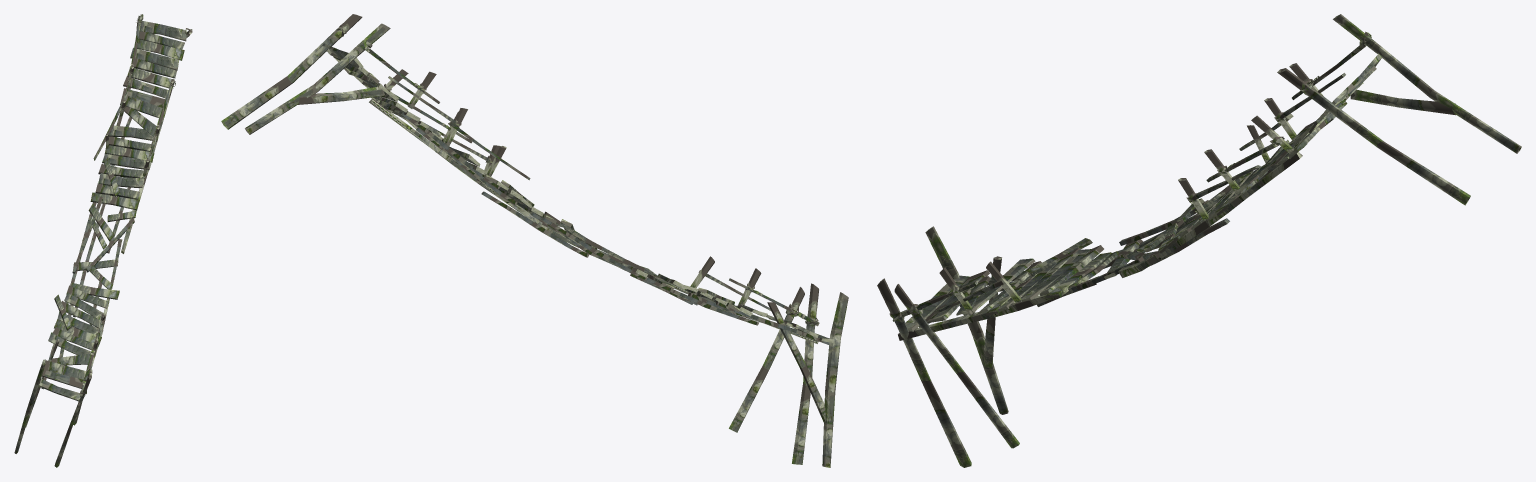
File: dx_poqiao_1.FBX
3 renders of one model, left to right at view 1: azimuth 30°, elevation 25°; view 2: azimuth 150°, elevation 25°; view 3: azimuth 270°, elevation 25°, orthographic. The views are drawn at different scales.
Parts seen in each view (by area): view 1: dx_poqiao_1; view 2: dx_poqiao_1; view 3: dx_poqiao_1.
Boxes of the visible parts, left/top/right/bottom form: dx_poqiao_1: left=14, top=14, right=192, bottom=467; dx_poqiao_1: left=221, top=14, right=848, bottom=467; dx_poqiao_1: left=877, top=14, right=1521, bottom=467.
Bounding box in the file's own units: 912 × 985 × 926.
